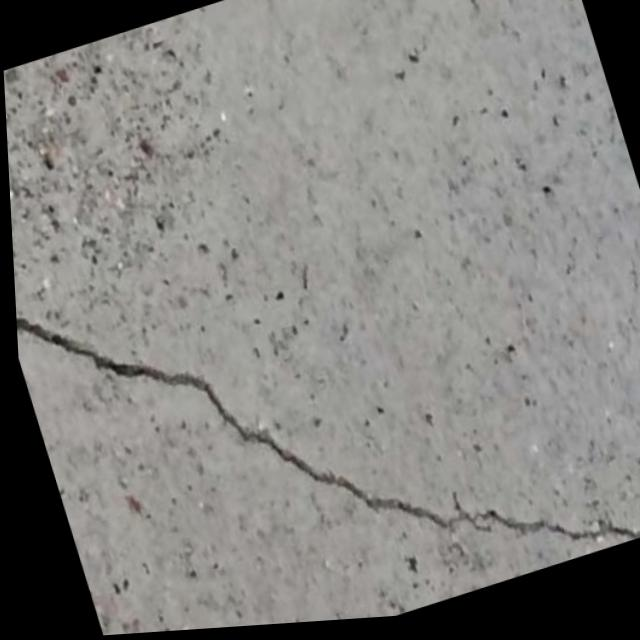Crack: (7, 139, 640, 640)
